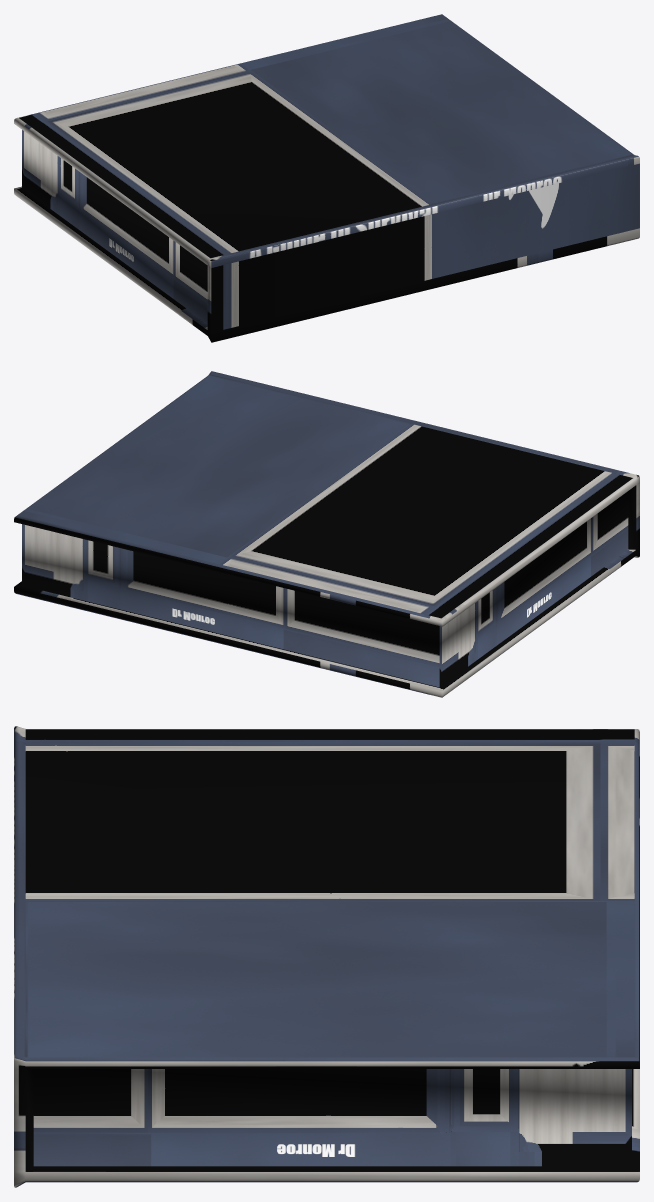
Rendered from Book1(HardCopy).fbx.
3 views of the same model, one above another, from view 1: azimuth 30°, elevation 25°; view 2: azimuth 150°, elevation 25°; view 3: azimuth 270°, elevation 25° (orthographic). The views are drawn at different scales.
Parts seen in each view (by area): view 1: Book 1; view 2: Book 1; view 3: Book 1.
Boxes of the visible parts, bbox=[...] form: Book 1: bbox=[14, 14, 639, 342]; Book 1: bbox=[14, 371, 639, 697]; Book 1: bbox=[14, 726, 639, 1187].
Size of the model in its own units: 33.05 by 6.12 by 26.33.
